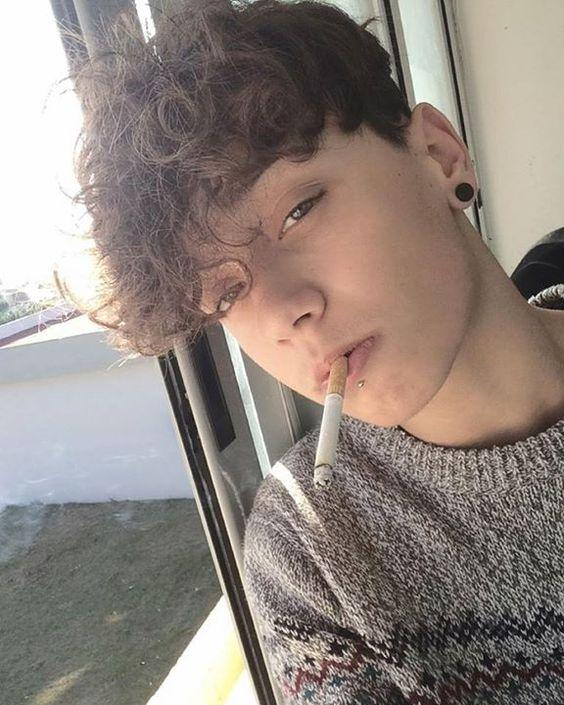cigarette: (312, 356, 349, 489)
